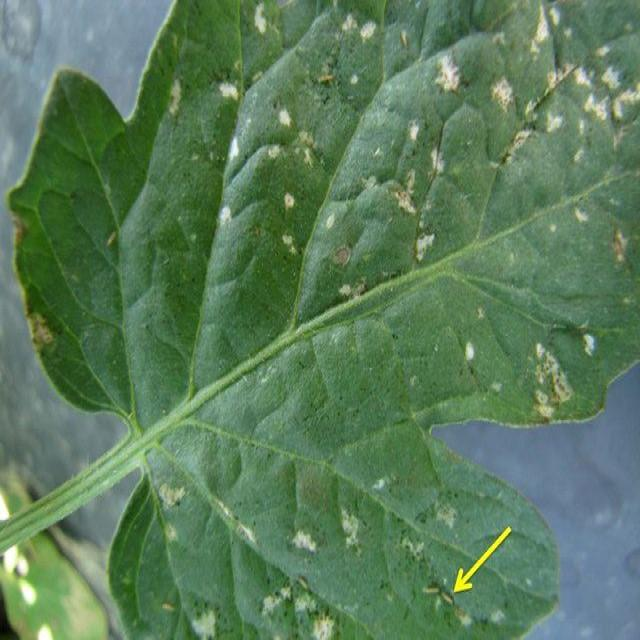Thrip-Larva-: (441, 590, 457, 610), (421, 583, 440, 596)
